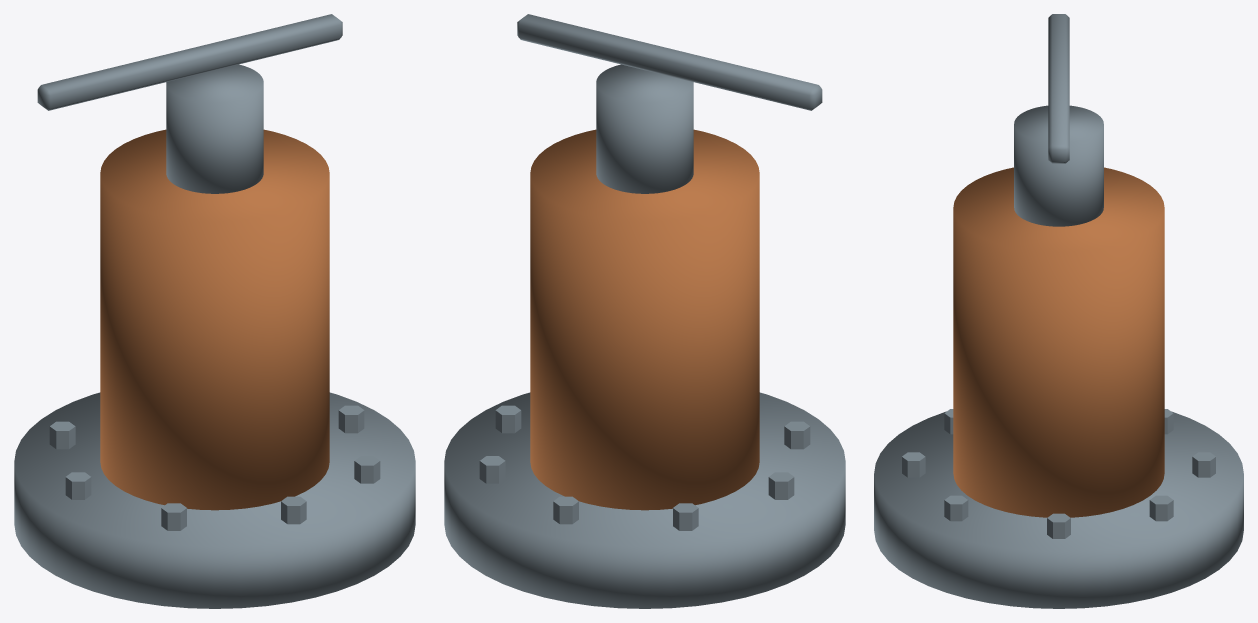
The model's file is pbr-pump.glb.
3 views of the same model, side by side, from view 1: azimuth 30°, elevation 25°; view 2: azimuth 150°, elevation 25°; view 3: azimuth 270°, elevation 25° (orthographic). The views are drawn at different scales.
Visible parts, largest first — view 1: pump-body, pump-base, pump-neck, pump-lever, base-bolt, base-bolt.003, base-bolt.004, base-bolt.007, base-bolt.006, base-bolt.005; view 2: pump-body, pump-base, pump-neck, pump-lever, base-bolt, base-bolt.005, base-bolt.001, base-bolt.004, base-bolt.002, base-bolt.003; view 3: pump-body, pump-base, pump-neck, pump-lever, base-bolt.001, base-bolt.007, base-bolt.002, base-bolt.006, base-bolt.
Part boxes in pixels (x1,y1,x2,y2): pump-body: [100, 129, 329, 510]; pump-base: [14, 392, 415, 608]; pump-neck: [166, 64, 263, 193]; pump-lever: [37, 14, 342, 110]; base-bolt: [338, 405, 364, 433]; base-bolt.003: [49, 421, 75, 449]; base-bolt.004: [65, 472, 91, 499]; base-bolt.007: [354, 456, 380, 483]; base-bolt.006: [281, 496, 306, 524]; base-bolt.005: [161, 503, 186, 530]; pump-body: [530, 129, 759, 510]; pump-base: [444, 392, 845, 608]; pump-neck: [596, 64, 693, 193]; pump-lever: [517, 14, 822, 110]; base-bolt: [495, 405, 521, 433]; base-bolt.005: [784, 421, 810, 449]; base-bolt.001: [479, 456, 505, 483]; base-bolt.004: [768, 472, 794, 499]; base-bolt.002: [553, 496, 578, 524]; base-bolt.003: [673, 503, 698, 530]; pump-body: [953, 167, 1164, 517]; pump-base: [874, 411, 1243, 608]; pump-neck: [1014, 105, 1103, 226]; pump-lever: [1048, 14, 1069, 163]; base-bolt.001: [1149, 495, 1173, 521]; base-bolt.007: [944, 495, 968, 521]; base-bolt.002: [1192, 452, 1215, 477]; base-bolt.006: [902, 452, 925, 477]; base-bolt: [1047, 513, 1070, 538].
Bounding box in the file's own units: 1.4 × 1.84 × 1.4.
